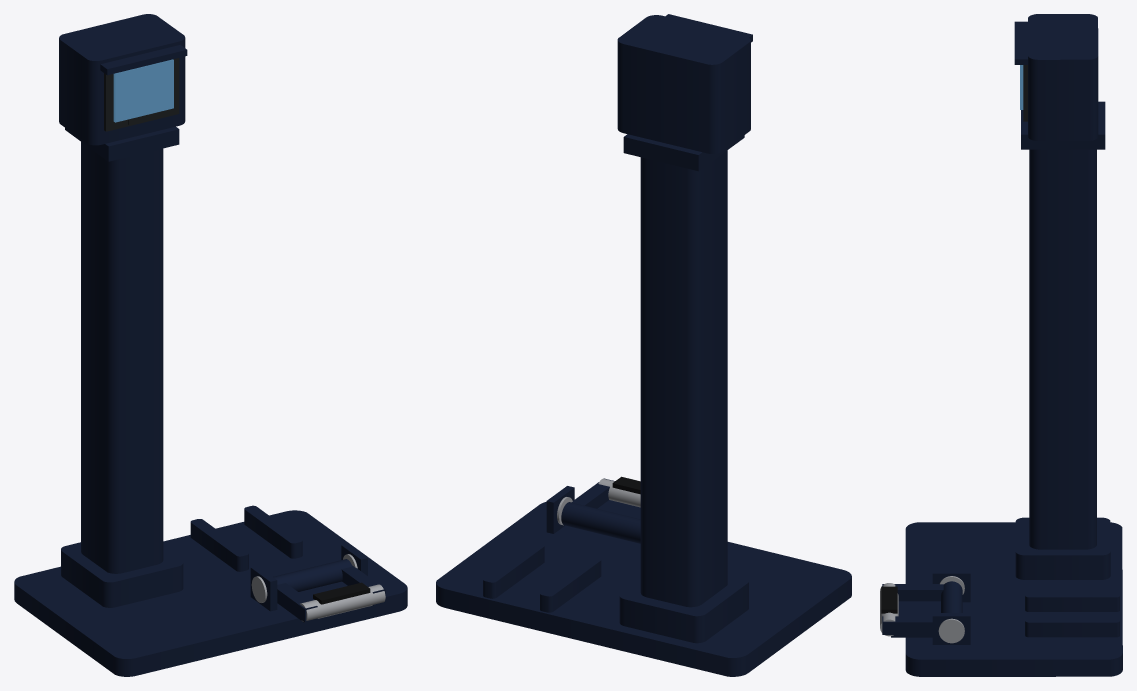
Rendered from bike-share-dock.glb.
3 views of the same model, side by side, from view 1: azimuth 30°, elevation 25°; view 2: azimuth 150°, elevation 25°; view 3: azimuth 270°, elevation 25° (orthographic). The views are drawn at different scales.
Visible parts, largest first — view 1: column, base_plate, reader_head, post_collar, Geom.006, Geom.005, rail_right, rail_left, Geom.013, Geom.009, Geom.007, Geom.008 (+3 smaller); view 2: column, base_plate, reader_head, post_collar, Geom.013, Geom.005, rail_left, rail_right, Geom.004; view 3: column, base_plate, reader_head, post_collar, rail_right, rail_left, Geom.005, Geom.014, Geom.012, Geom.011, Geom.004, Geom.013 (+4 smaller).
Boxes of the visible parts, box(x1,y1,x2,y2) form: column: box(81, 142, 163, 573); base_plate: box(14, 510, 407, 676); reader_head: box(59, 14, 185, 145); post_collar: box(61, 542, 183, 607); Geom.006: box(113, 59, 173, 122); Geom.005: box(65, 126, 179, 161); rail_right: box(244, 505, 302, 558); rail_left: box(190, 519, 248, 571); Geom.013: box(273, 559, 352, 591); Geom.009: box(300, 584, 385, 621); Geom.007: box(104, 58, 179, 131); Geom.008: box(100, 44, 187, 75); column: box(640, 150, 727, 607); base_plate: box(436, 501, 851, 676); reader_head: box(617, 15, 750, 153); post_collar: box(619, 573, 748, 643); Geom.013: box(561, 502, 640, 543); Geom.005: box(623, 134, 744, 171); rail_left: box(540, 556, 601, 612); rail_right: box(483, 542, 544, 598); Geom.004: box(546, 486, 574, 533); column: box(1029, 149, 1096, 549); base_plate: box(905, 522, 1122, 676); reader_head: box(1028, 14, 1098, 140); post_collar: box(1015, 517, 1110, 579); rail_right: box(1025, 617, 1119, 637); rail_left: box(1025, 591, 1119, 611); Geom.005: box(1021, 101, 1105, 149); Geom.014: box(882, 616, 932, 634); Geom.012: box(882, 584, 943, 601); Geom.011: box(891, 601, 940, 637); Geom.004: box(932, 613, 970, 644); Geom.013: box(941, 581, 962, 612).
Size of the model in its own units: 0.6 by 1.1 by 0.447.
